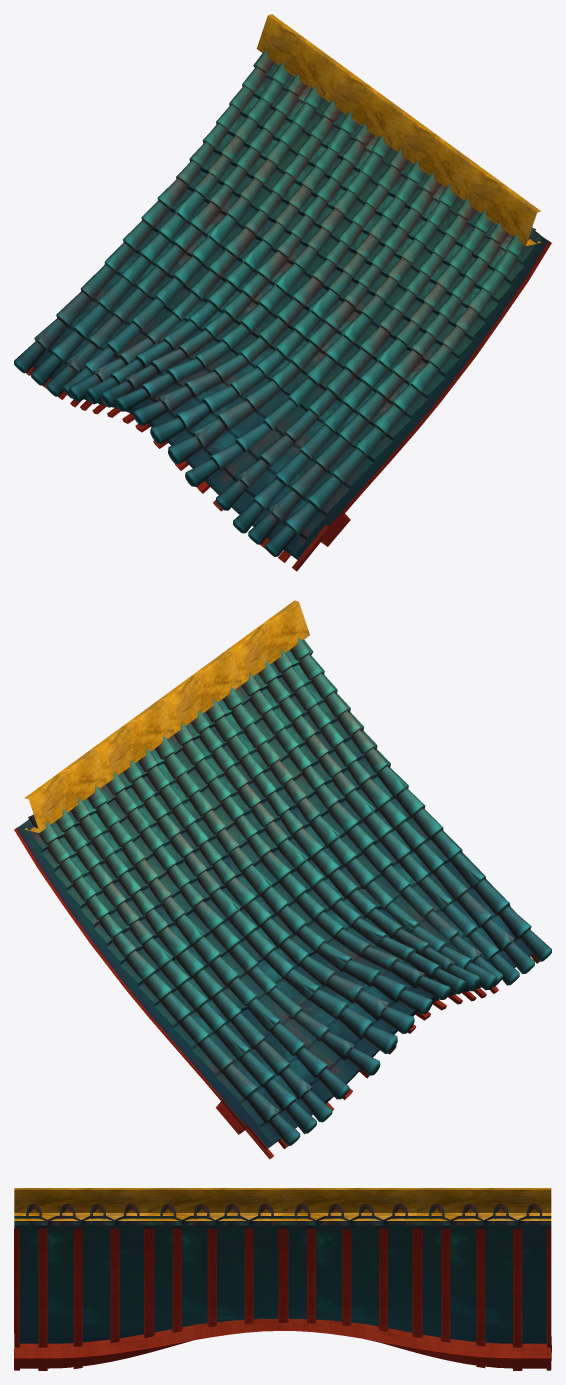
File: SM_BigRoof_Wave.glb
The picture shows the model from 3 angles, top to bottom: view 1: azimuth 30°, elevation 25°; view 2: azimuth 150°, elevation 25°; view 3: azimuth 270°, elevation 25°; orthographic projection.
Parts seen in each view (by area): view 1: SM_BigRoof_Wave_LOD0; view 2: SM_BigRoof_Wave_LOD0; view 3: SM_BigRoof_Wave_LOD0.
Part boxes in pixels (bbox=[...]): SM_BigRoof_Wave_LOD0: bbox=[14, 14, 551, 571]; SM_BigRoof_Wave_LOD0: bbox=[14, 600, 551, 1159]; SM_BigRoof_Wave_LOD0: bbox=[14, 1188, 551, 1370].
Size of the model in its own units: 2.49 by 2.47 by 4.01.
1 material, 1 textured.
